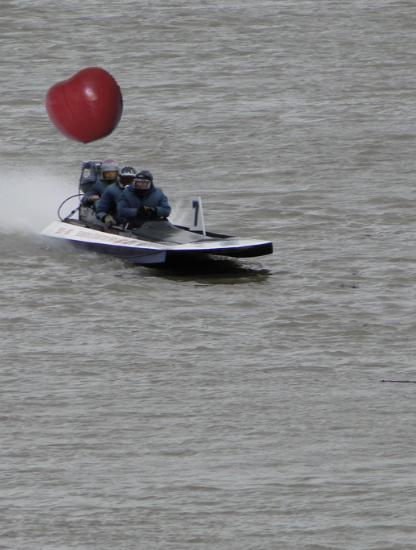Cherry: (45, 66, 125, 146)
